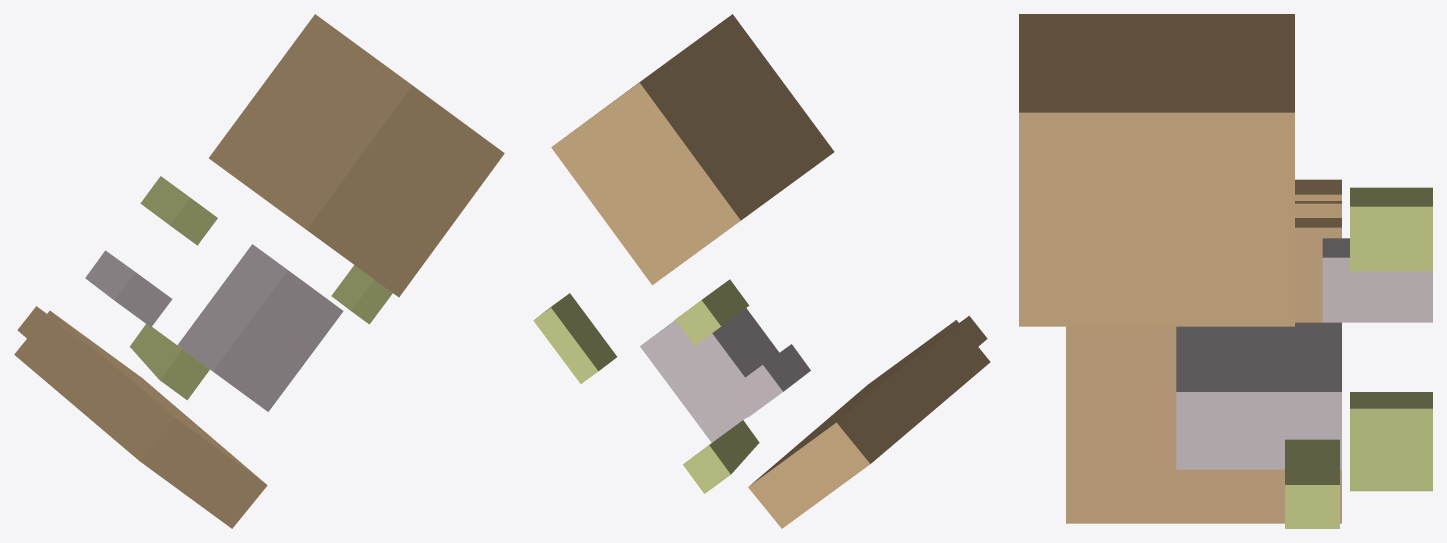
3 renders of one model, left to right at view 1: azimuth 30°, elevation 25°; view 2: azimuth 150°, elevation 25°; view 3: azimuth 270°, elevation 25°, orthographic. The views are drawn at different scales.
Visible parts, largest first — view 1: 0_0_1_1_3_2_0_3; view 2: 0_0_1_1_3_2_0_3; view 3: 0_0_1_1_3_2_0_3.
Part boxes in pixels (x1,y1,x2,y2): 0_0_1_1_3_2_0_3: (14, 14, 504, 528); 0_0_1_1_3_2_0_3: (533, 14, 990, 528); 0_0_1_1_3_2_0_3: (1019, 14, 1432, 528).
Bounding box in the file's own units: 72.25 × 75.1 × 45.
